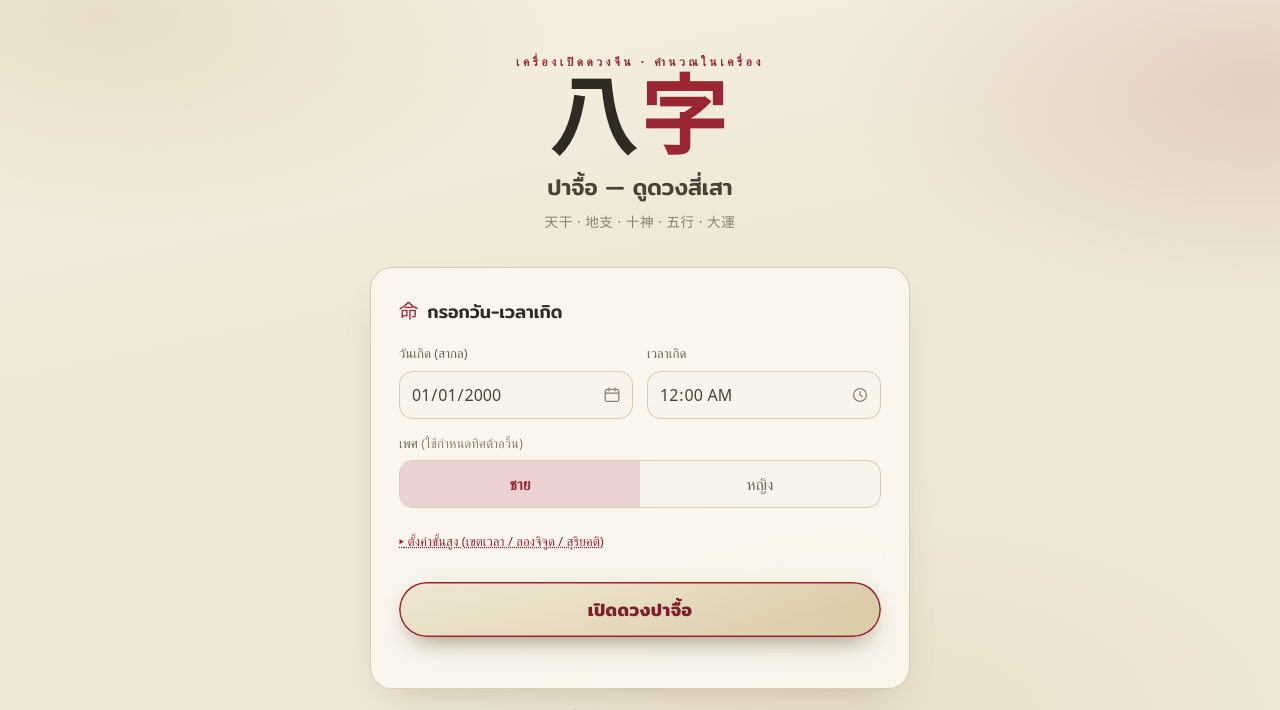
App — end-to-end ใน jsdom › กรอกวันว่างแล้วกด → ขึ้น error ไม่ crash
Clear the date field labelled "วันเกิด (สากล)" at (516, 395), box [399,371,633,419]
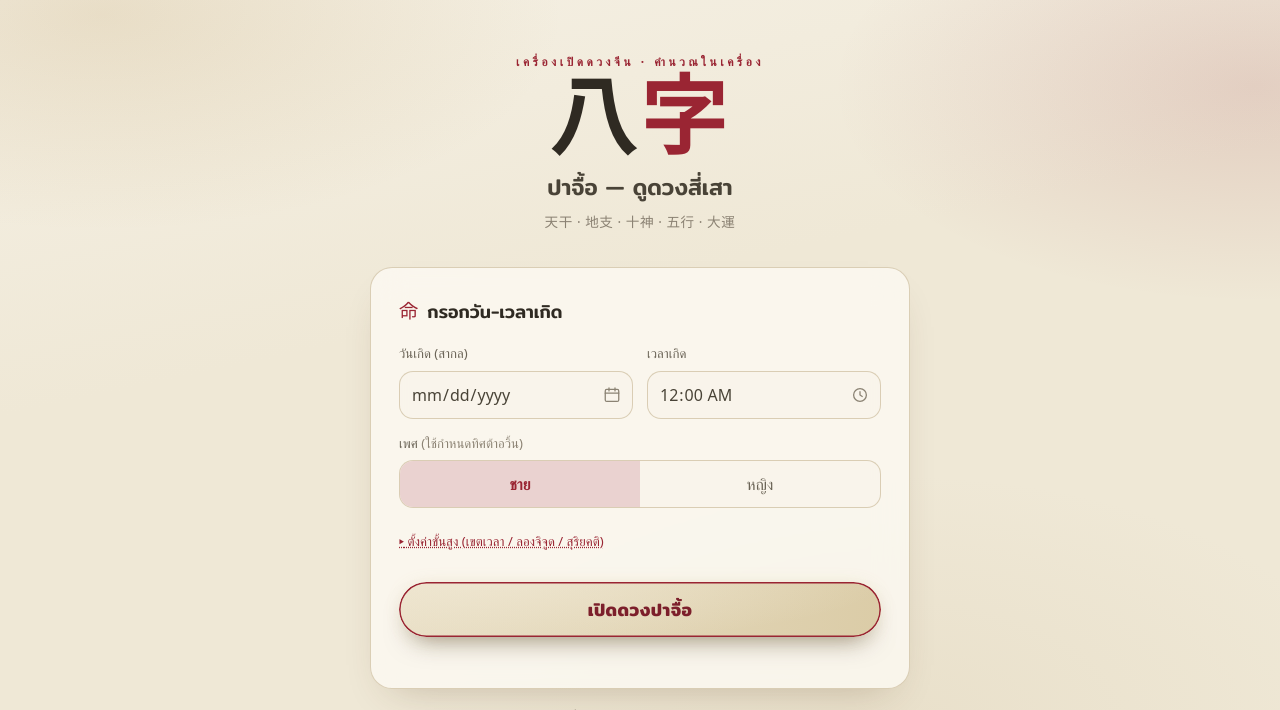
Click the button "เปิดดวงปาจื้อ".
click(640, 609)  # box [399,582,881,637]
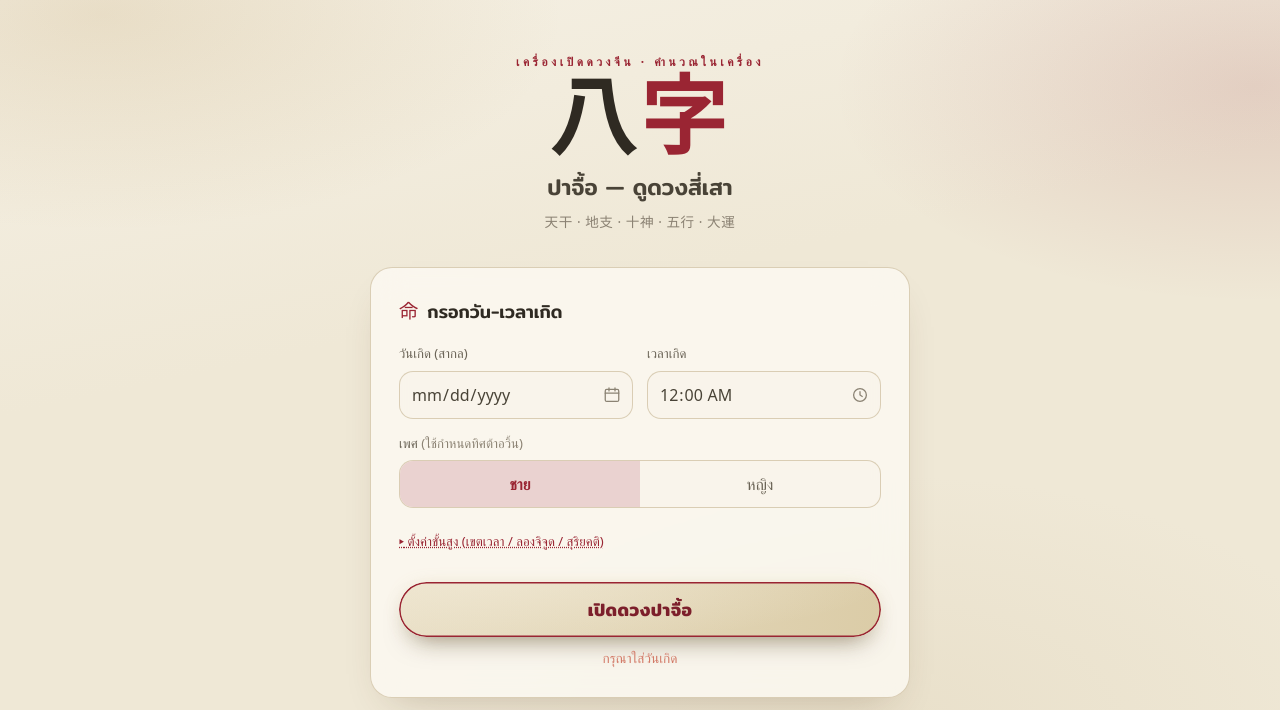
Expected: the text "กรุณาใส่วันเกิด" is shown, [602,648,678,667]
